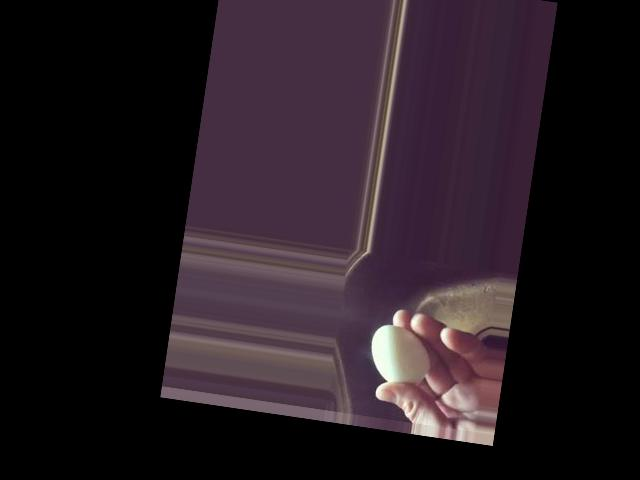egg: (366, 322, 434, 387)
